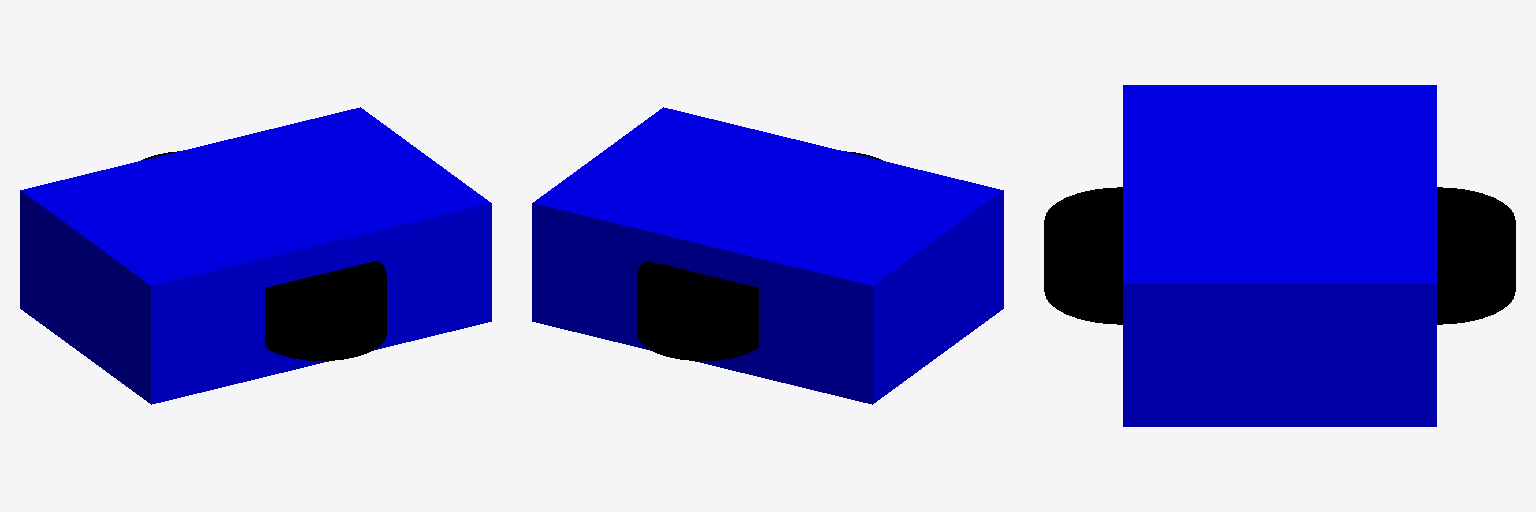
URDF robot description (differential_drive_robot):
<?xml version="1.0"?>
<robot name="differential_drive_robot">
  <!-- Base link -->
  <link name="base_link">
    <inertial>
      <mass value="5.0"/>
      <inertia ixx="0.1" ixy="0.0" ixz="0.0" iyy="0.1" iyz="0.0" izz="0.1"/>
    </inertial>
    <collision>
      <geometry>
        <box size="0.3 0.2 0.1"/>
      </geometry>
    </collision>
    <visual>
      <geometry>
        <box size="0.3 0.2 0.1"/>
      </geometry>
      <material name="blue">
        <color rgba="0 0 1 1"/>
      </material>
    </visual>
  </link>

  <!-- Laser frame -->
  <joint name="laser_joint" type="fixed">
    <parent link="base_link"/>
    <child link="laser_frame"/>
    <origin xyz="0.1 0 0.05"/>
  </joint>

  <link name="laser_frame"/>

  <!-- Left wheel -->
  <joint name="left_wheel_joint" type="revolute">
    <parent link="base_link"/>
    <child link="left_wheel"/>
    <axis xyz="0 1 0"/>
    <origin xyz="0 0.1 0"/>
    <limit effort="10" velocity="1" lower="-3.14159" upper="3.14159"/>
  </joint>

  <link name="left_wheel">
    <inertial>
      <mass value="0.5"/>
      <inertia ixx="0.01" ixy="0.0" ixz="0.0" iyy="0.01" iyz="0.0" izz="0.01"/>
    </inertial>
    <collision>
      <geometry>
        <cylinder radius="0.05" length="0.05"/>
      </geometry>
    </collision>
    <visual>
      <geometry>
        <cylinder radius="0.05" length="0.05"/>
      </geometry>
      <material name="black">
        <color rgba="0 0 0 1"/>
      </material>
    </visual>
  </link>

  <!-- Right wheel -->
  <joint name="right_wheel_joint" type="revolute">
    <parent link="base_link"/>
    <child link="right_wheel"/>
    <axis xyz="0 1 0"/>
    <origin xyz="0 -0.1 0"/>
    <limit effort="10" velocity="1" lower="-3.14159" upper="3.14159"/>
  </joint>

  <link name="right_wheel">
    <inertial>
      <mass value="0.5"/>
      <inertia ixx="0.01" ixy="0.0" ixz="0.0" iyy="0.01" iyz="0.0" izz="0.01"/>
    </inertial>
    <collision>
      <geometry>
        <cylinder radius="0.05" length="0.05"/>
      </geometry>
    </collision>
    <visual>
      <geometry>
        <cylinder radius="0.05" length="0.05"/>
      </geometry>
      <material name="black">
        <color rgba="0 0 0 1"/>
      </material>
    </visual>
  </link>

  <!-- Caster wheel -->
  <joint name="caster_joint" type="fixed">
    <parent link="base_link"/>
    <child link="caster_wheel"/>
    <origin xyz="-0.1 0 -0.05"/>
  </joint>

  <link name="caster_wheel">
    <inertial>
      <mass value="0.2"/>
      <inertia ixx="0.001" ixy="0.0" ixz="0.0" iyy="0.001" iyz="0.0" izz="0.001"/>
    </inertial>
    <collision>
      <geometry>
        <sphere radius="0.02"/>
      </geometry>
    </collision>
    <visual>
      <geometry>
        <sphere radius="0.02"/>
      </geometry>
      <material name="gray">
        <color rgba="0.5 0.5 0.5 1"/>
      </material>
    </visual>
  </link>
</robot>

--- Facts derived from the render (not from the file) ---
The picture shows the robot from 3 angles, left to right: view 1: azimuth 30°, elevation 25°; view 2: azimuth 150°, elevation 25°; view 3: azimuth 270°, elevation 25°; orthographic projection.
Model differential_drive_robot with 5 links and 4 joints (2 revolute, 2 fixed), rooted at base_link, posed all joints at 0.
Links seen in each view (by area): view 1: base_link, right_wheel; view 2: base_link, left_wheel; view 3: base_link, left_wheel, right_wheel.
Boxes of the visible links, x1,y1,x2,y2 form: base_link: (20, 107, 491, 404); right_wheel: (265, 261, 386, 360); base_link: (532, 107, 1003, 404); left_wheel: (637, 261, 758, 360); base_link: (1123, 85, 1436, 426); left_wheel: (1437, 187, 1515, 324); right_wheel: (1044, 187, 1122, 324).
Bounding box of the posed robot: 0.3 × 0.3 × 0.12 m (x, y, z).
Geometry: primitives only (box / cylinder / sphere), no mesh files.
